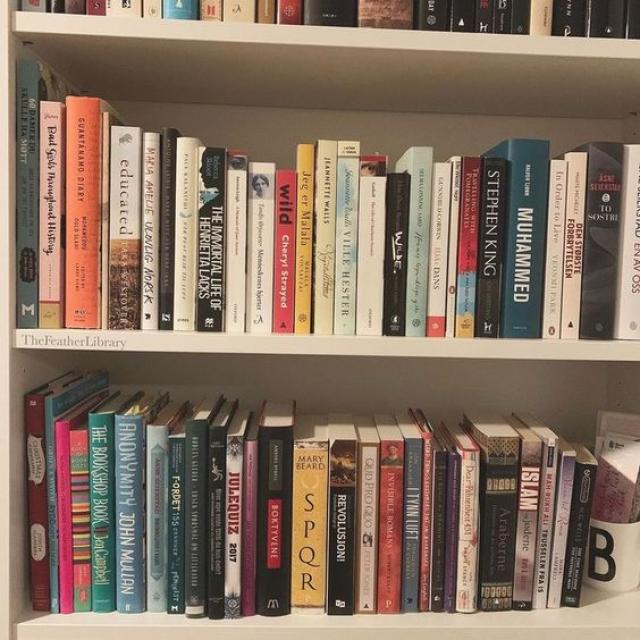book: (486, 138, 549, 338), (16, 54, 50, 328), (576, 142, 623, 339), (64, 95, 101, 328), (395, 146, 432, 336), (108, 127, 141, 329), (474, 158, 508, 337), (259, 427, 291, 616), (561, 445, 596, 606), (39, 103, 64, 328), (483, 434, 515, 607), (116, 415, 144, 612), (511, 423, 540, 609), (172, 138, 200, 330), (332, 141, 359, 335), (296, 440, 326, 613), (196, 146, 224, 331), (27, 385, 50, 610), (529, 426, 557, 608), (90, 411, 115, 612), (561, 152, 587, 339), (356, 177, 386, 335), (454, 157, 480, 337), (246, 163, 273, 335), (47, 395, 68, 612), (547, 440, 574, 608), (541, 159, 566, 338), (313, 141, 336, 334), (382, 172, 409, 335), (331, 440, 356, 614), (158, 128, 179, 329), (69, 411, 90, 612), (224, 151, 247, 334), (399, 422, 421, 612), (146, 424, 168, 612), (379, 438, 402, 613), (426, 162, 449, 336), (293, 144, 314, 334), (272, 169, 295, 332), (416, 421, 435, 610), (188, 418, 205, 618), (141, 133, 158, 329), (358, 443, 377, 618), (56, 419, 73, 613), (206, 426, 222, 620), (167, 431, 184, 613), (429, 445, 447, 610), (446, 157, 462, 337), (443, 450, 461, 610), (242, 441, 257, 618), (462, 450, 478, 613), (225, 437, 238, 618)
